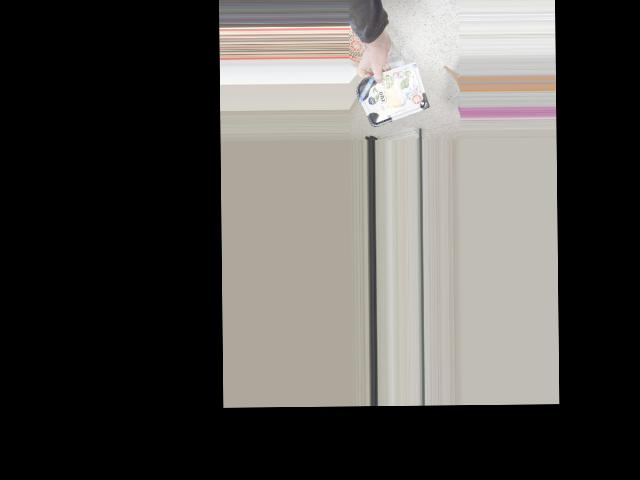cheese: (360, 72, 424, 120)
